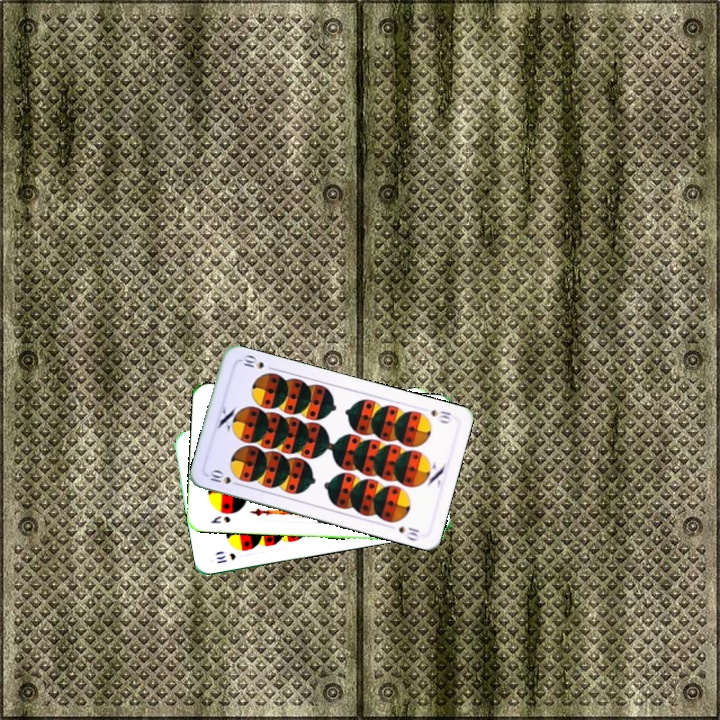S10: (204, 466, 244, 489), (427, 405, 454, 426), (212, 549, 238, 566)
SK: (207, 512, 233, 526)
